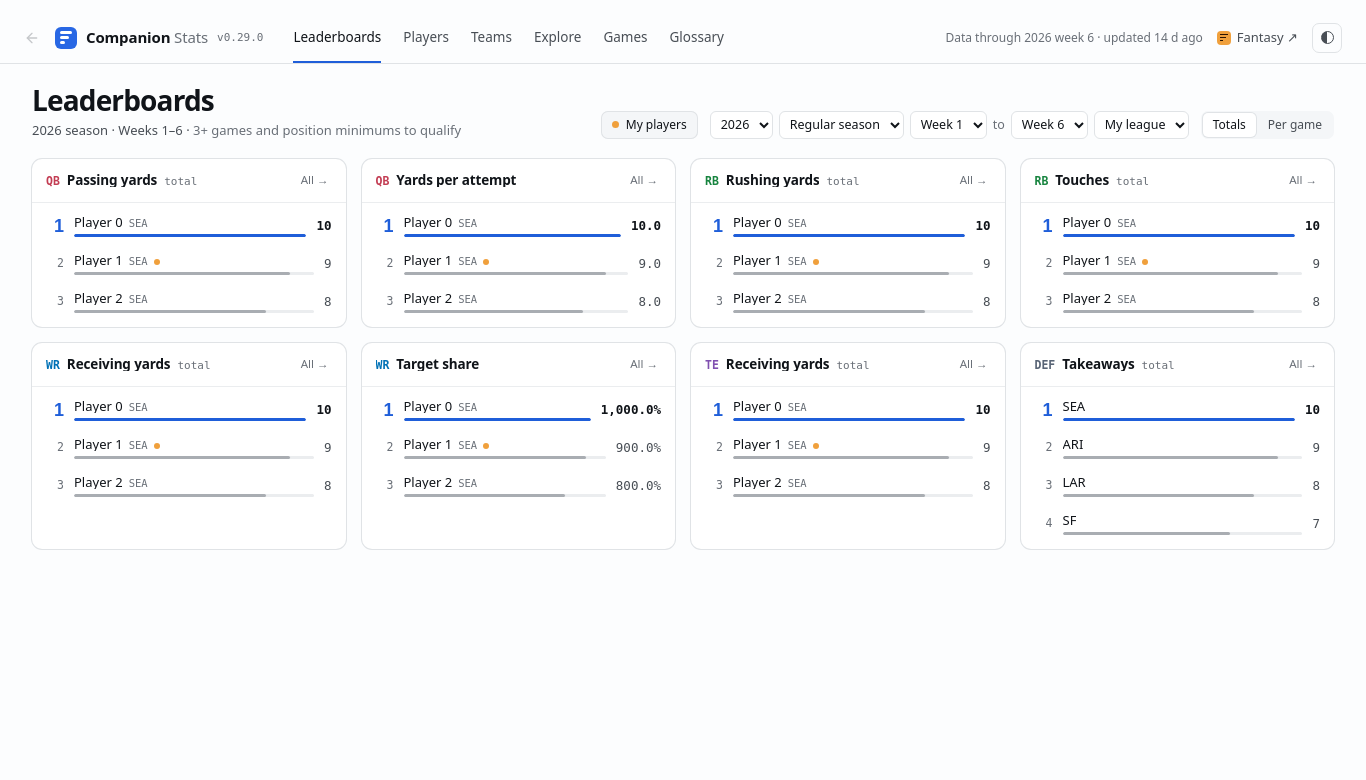
Test case: the team dashboard (spec §9.3) › reads each stat tab over every team, red zone and two-minute splits included
Click the button "Teams".
click(491, 38)  # box [471,12,512,63]
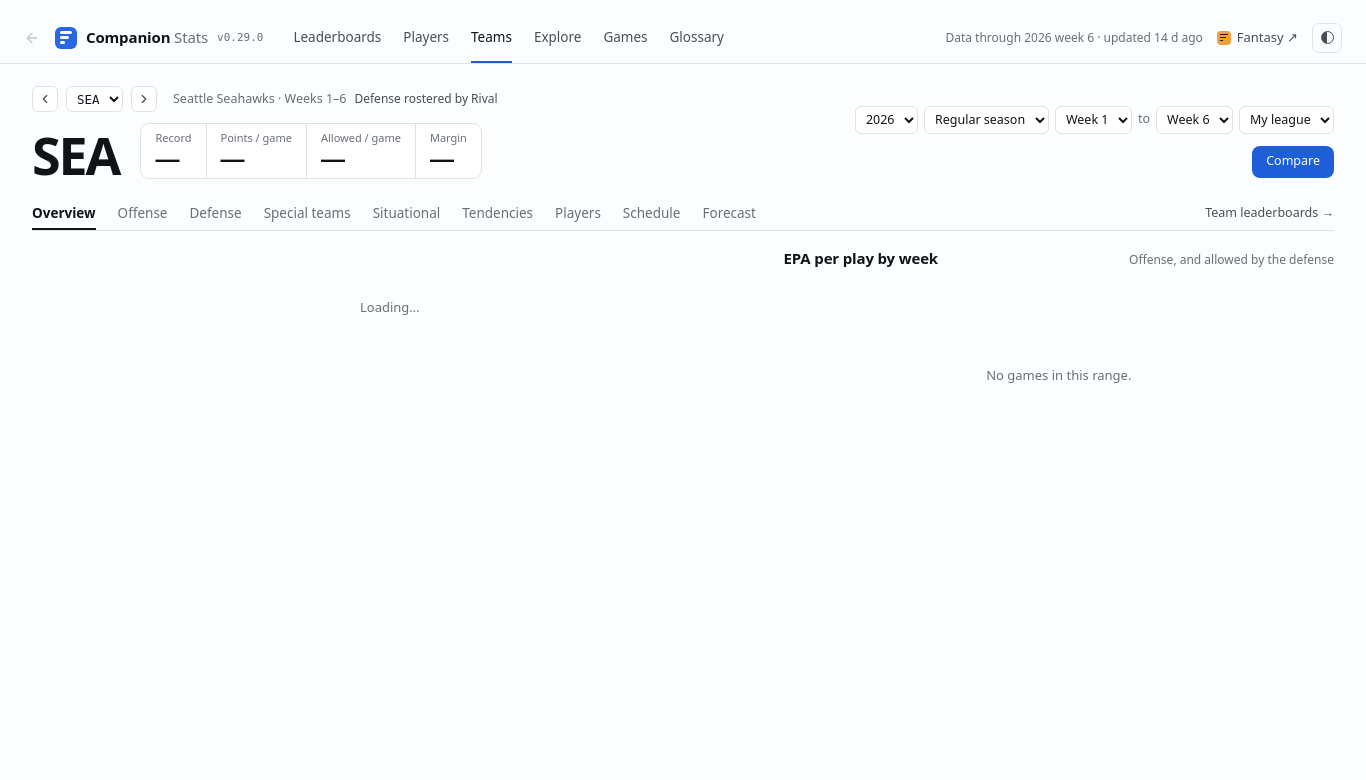
Now the heading "SEA" is shown, box [32,133,119,178]
Click the tab "Offense".
click(143, 214)  # box [118,198,168,230]
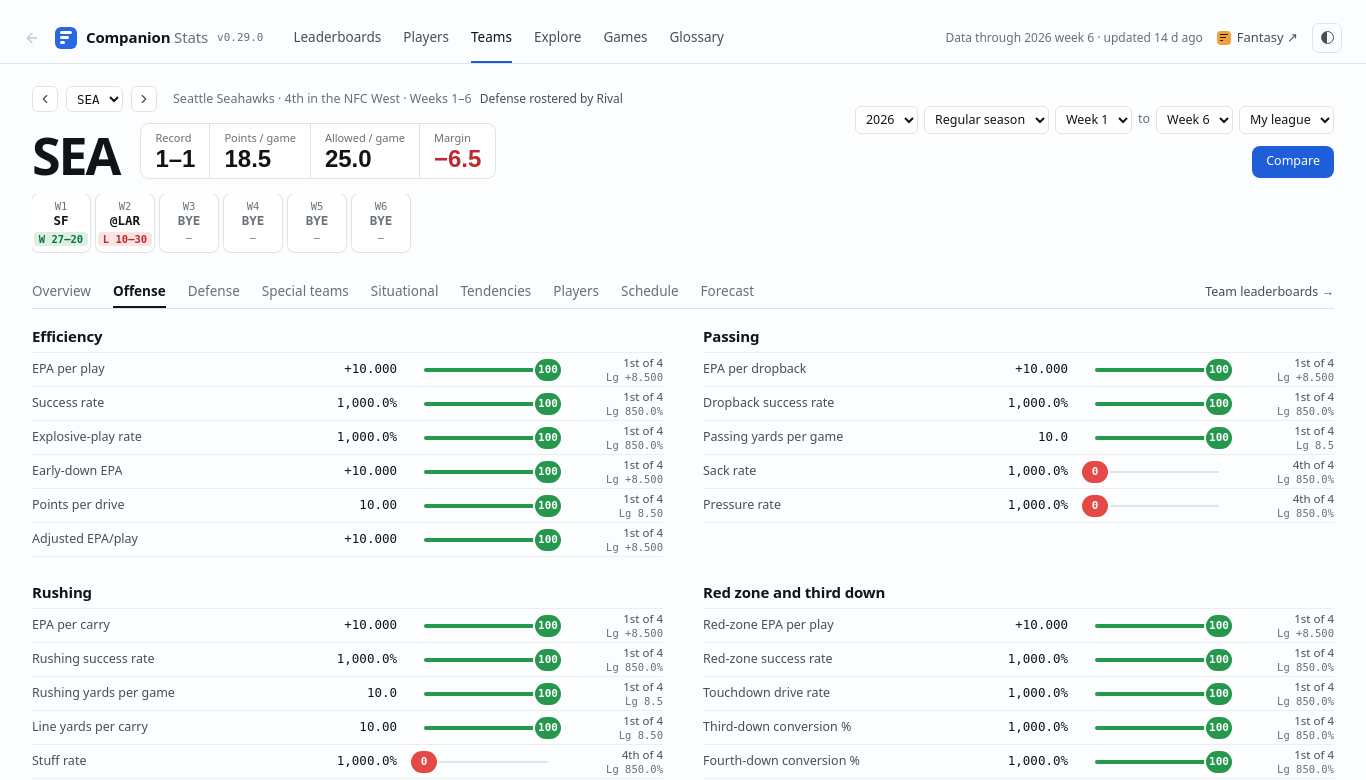
Now the text "Red-zone EPA per play" is shown, box [703,618,834,634]
Click the tab "Situational".
click(405, 292)  # box [371,276,438,308]
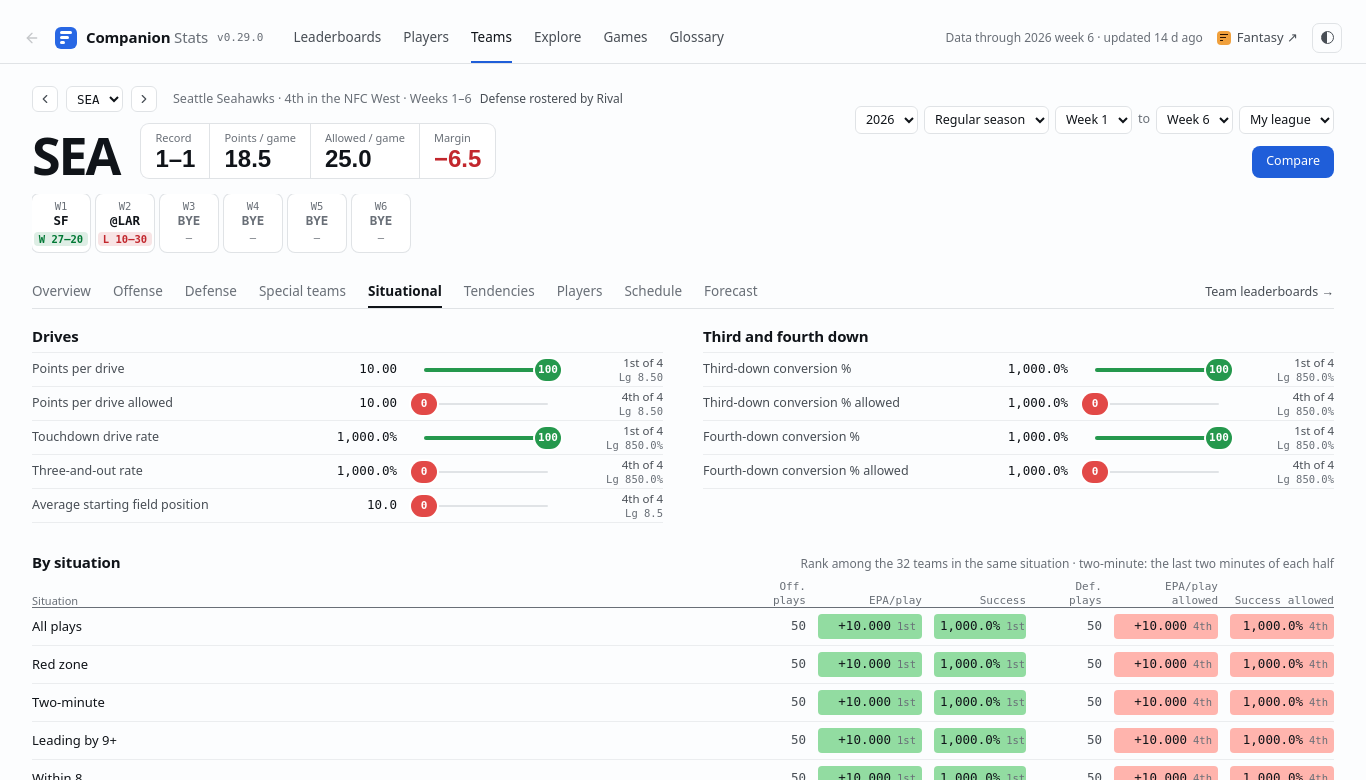
Now the text "Two-minute" is shown, box [32,693,105,711]
Click the tab "Defense".
click(211, 292)  # box [185,276,237,308]
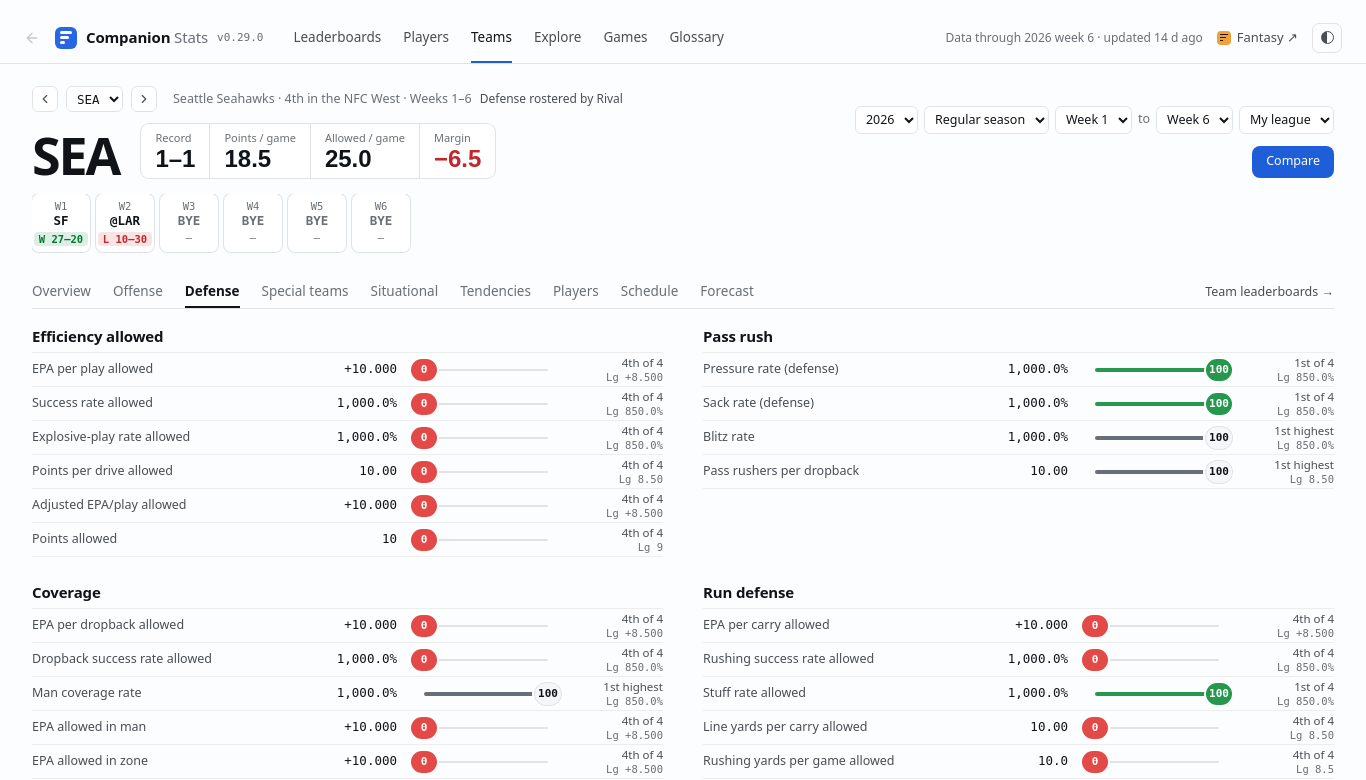
Click the tab "Special teams".
click(305, 292)  # box [262,276,348,308]
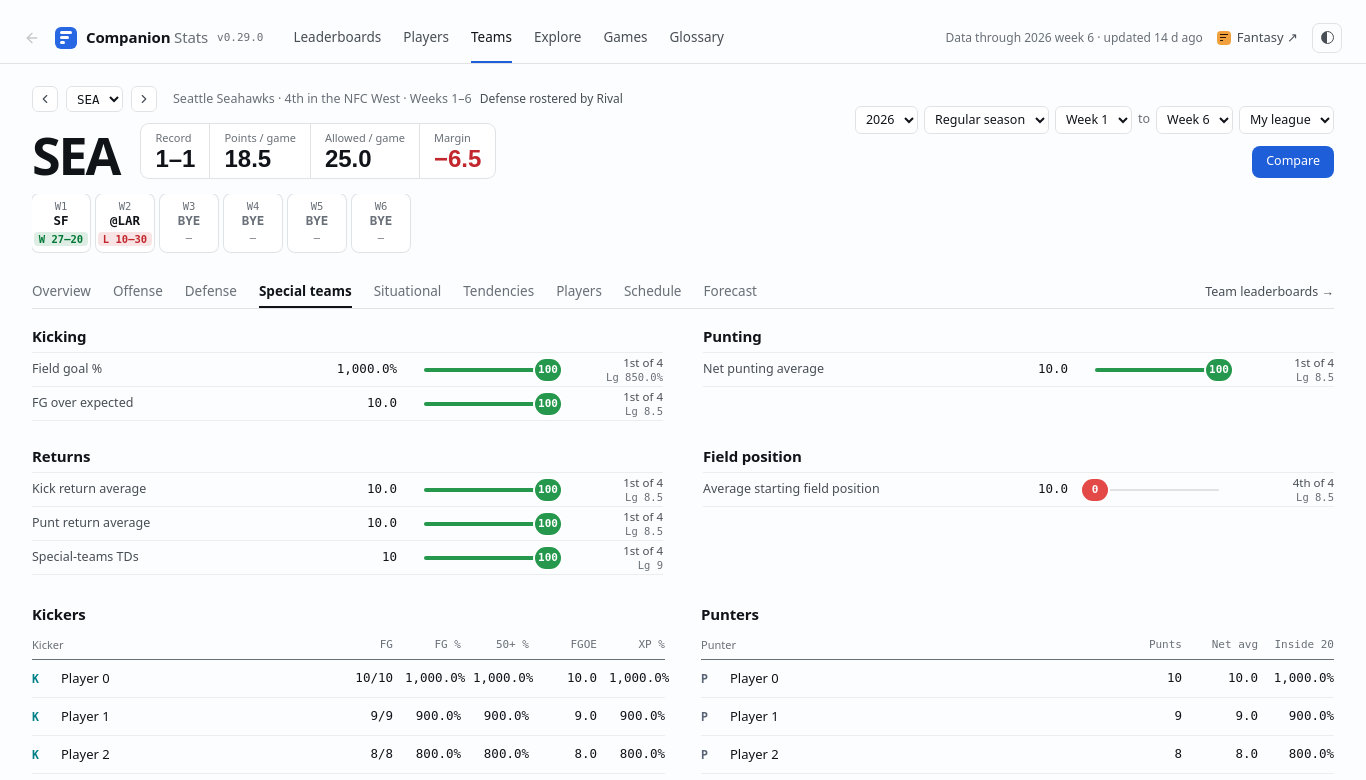
Now the heading "Kickers" is shown, box [32,607,86,622]
Click the tab "Tendencies".
click(499, 292)  # box [463,276,534,308]
(page scrolled)
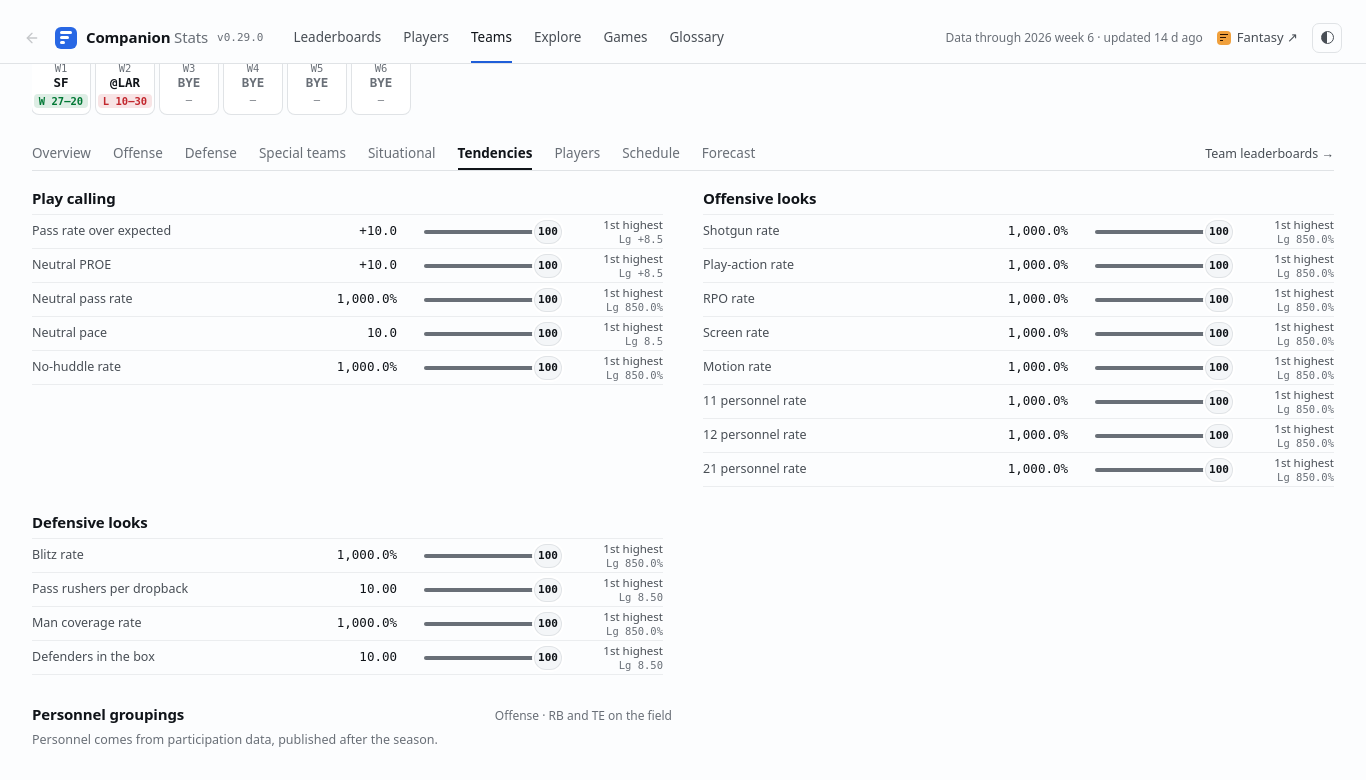
Now the heading "Personnel groupings" is shown, box [32,707,184,722]
